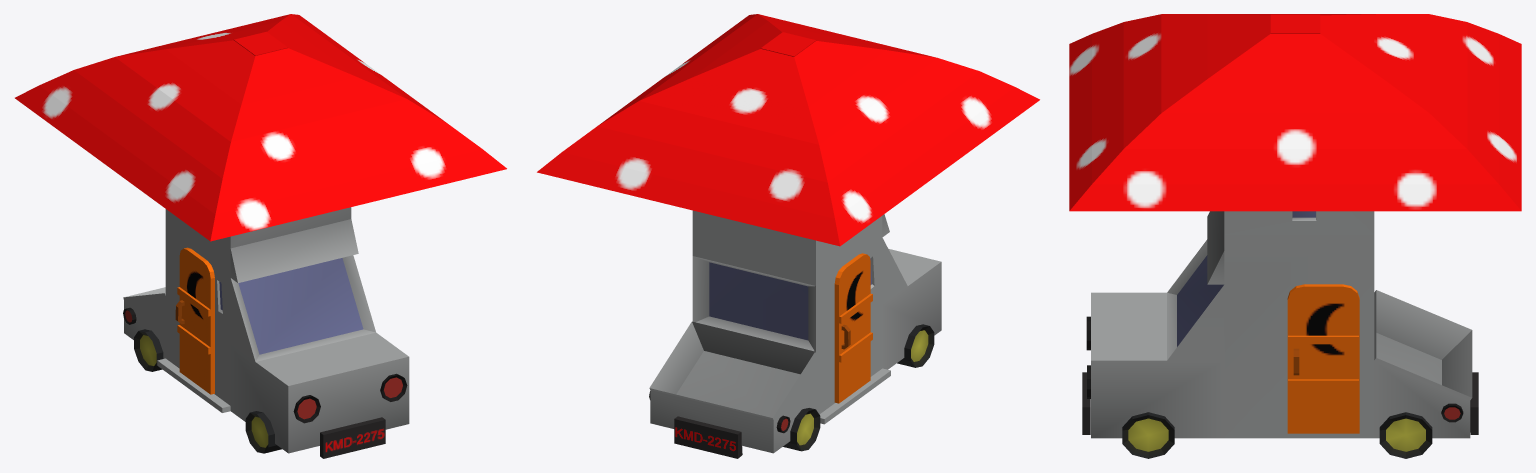
Rendered from carroCogumelo.fbx.
3 renders of one model, left to right at view 1: azimuth 30°, elevation 25°; view 2: azimuth 150°, elevation 25°; view 3: azimuth 270°, elevation 25°, orthographic. The views are drawn at different scales.
Parts seen in each view (by area): view 1: CarCeiling, Car, PassengerCarDoor, FrontSign, FrontRightWheelCar, BackRightWheel, FrontRightHeadlight, FrontLeftHeadlight; view 2: CarCeiling, Car, PassengerCarDoor, backSign, FrontRightWheelCar, BackRightWheel; view 3: CarCeiling, Car, PassengerCarDoor.001, BackLeftWheel, FrontLeftWheelCar, backSign, FrontSign.
Part boxes in pixels (box(x1,y1,x2,y2)): CarCeiling: box(15, 14, 506, 241); Car: box(123, 207, 409, 453); PassengerCarDoor: box(175, 247, 214, 394); FrontSign: box(320, 417, 385, 458); FrontRightWheelCar: box(245, 411, 281, 453); BackRightWheel: box(134, 329, 163, 371); FrontRightHeadlight: box(293, 395, 320, 423); FrontLeftHeadlight: box(380, 373, 407, 401); CarCeiling: box(537, 14, 1039, 246); Car: box(649, 210, 941, 453); PassengerCarDoor: box(834, 253, 872, 403); backSign: box(674, 416, 742, 458); FrontRightWheelCar: box(897, 324, 934, 367); BackRightWheel: box(783, 408, 820, 451); CarCeiling: box(1069, 14, 1521, 211); Car: box(1091, 211, 1472, 438); PassengerCarDoor.001: box(1287, 284, 1359, 433); BackLeftWheel: box(1379, 412, 1432, 458); FrontLeftWheelCar: box(1122, 412, 1174, 458); backSign: box(1470, 372, 1478, 434); FrontSign: box(1082, 372, 1090, 434).
Size of the model in its own units: 180 by 199 by 205.
